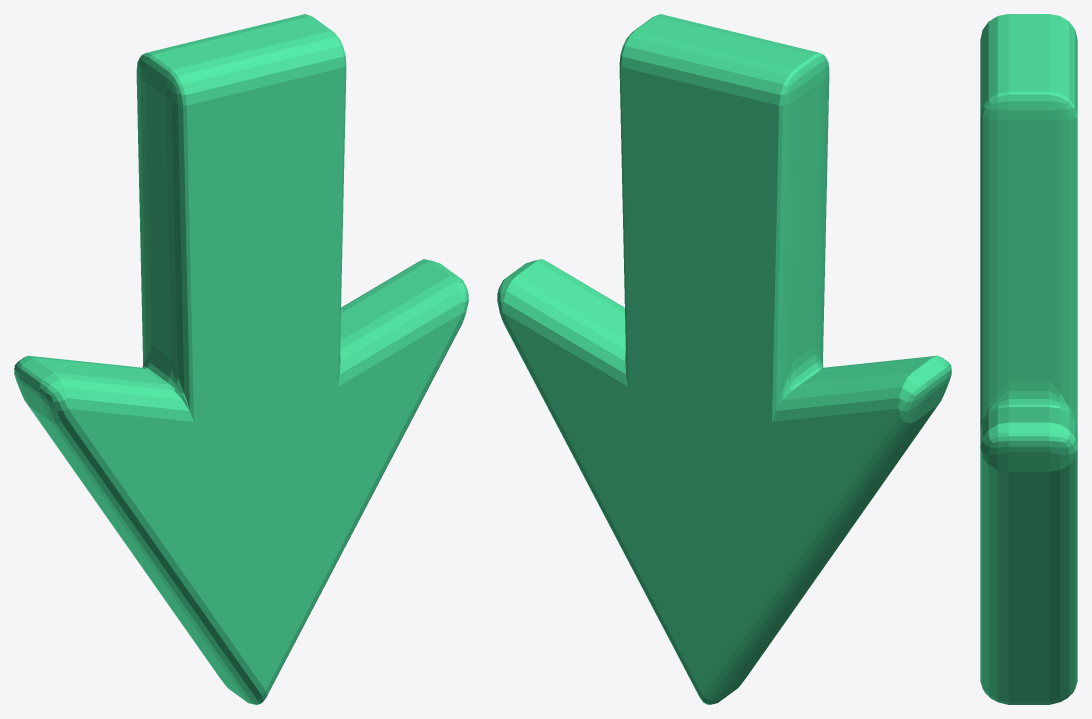
The model's file is arrowdown.gltf.
The picture shows the model from 3 angles, left to right: view 1: azimuth 30°, elevation 25°; view 2: azimuth 150°, elevation 25°; view 3: azimuth 270°, elevation 25°; orthographic projection.
Visible parts, largest first — view 1: Plane; view 2: Plane; view 3: Plane.
Boxes of the visible parts, left/top/right/bottom form: Plane: left=14, top=14, right=468, bottom=704; Plane: left=497, top=14, right=951, bottom=704; Plane: left=980, top=14, right=1077, bottom=704.
Size of the model in its own units: 1.41 by 2.07 by 0.28.
